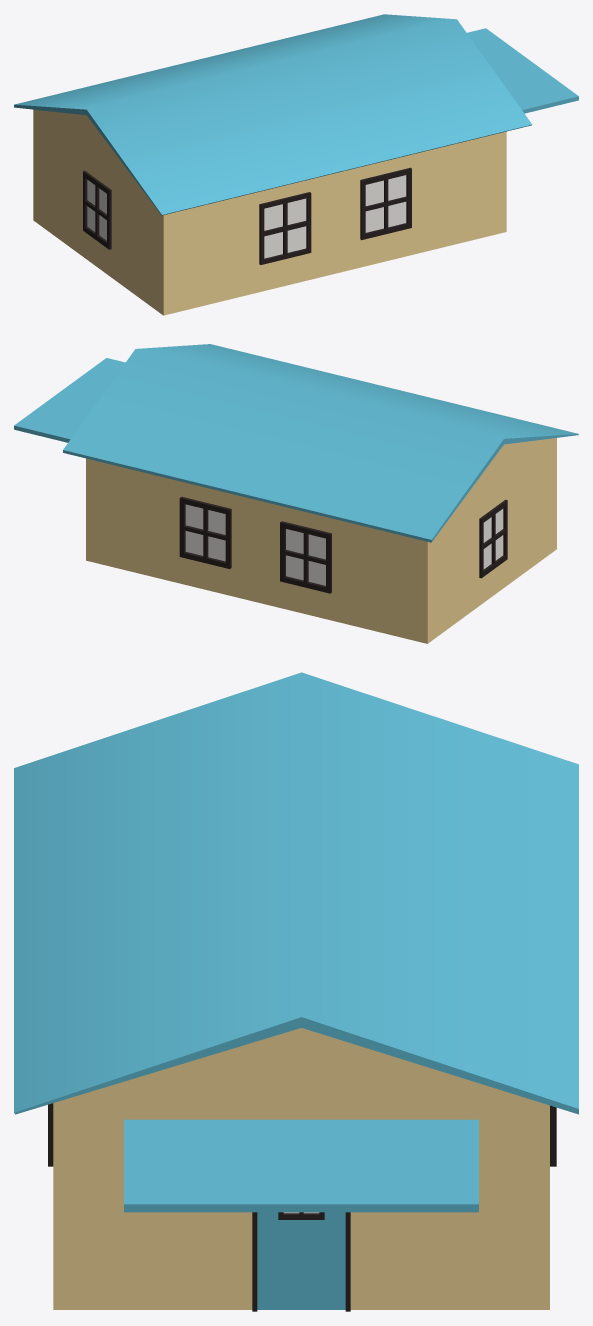
The model's file is House 04 B.FBX.
3 views of the same model, one above another, from view 1: azimuth 30°, elevation 25°; view 2: azimuth 150°, elevation 25°; view 3: azimuth 270°, elevation 25° (orthographic). The views are drawn at different scales.
Visible parts, largest first — view 1: Box001; view 2: Box001; view 3: Box001.
Boxes of the visible parts, x1,y1,x2,y2 form: Box001: (14, 14, 578, 315); Box001: (14, 344, 578, 643); Box001: (14, 672, 578, 1311).
Size of the model in its own units: 34.58 by 11.95 by 19.9.
